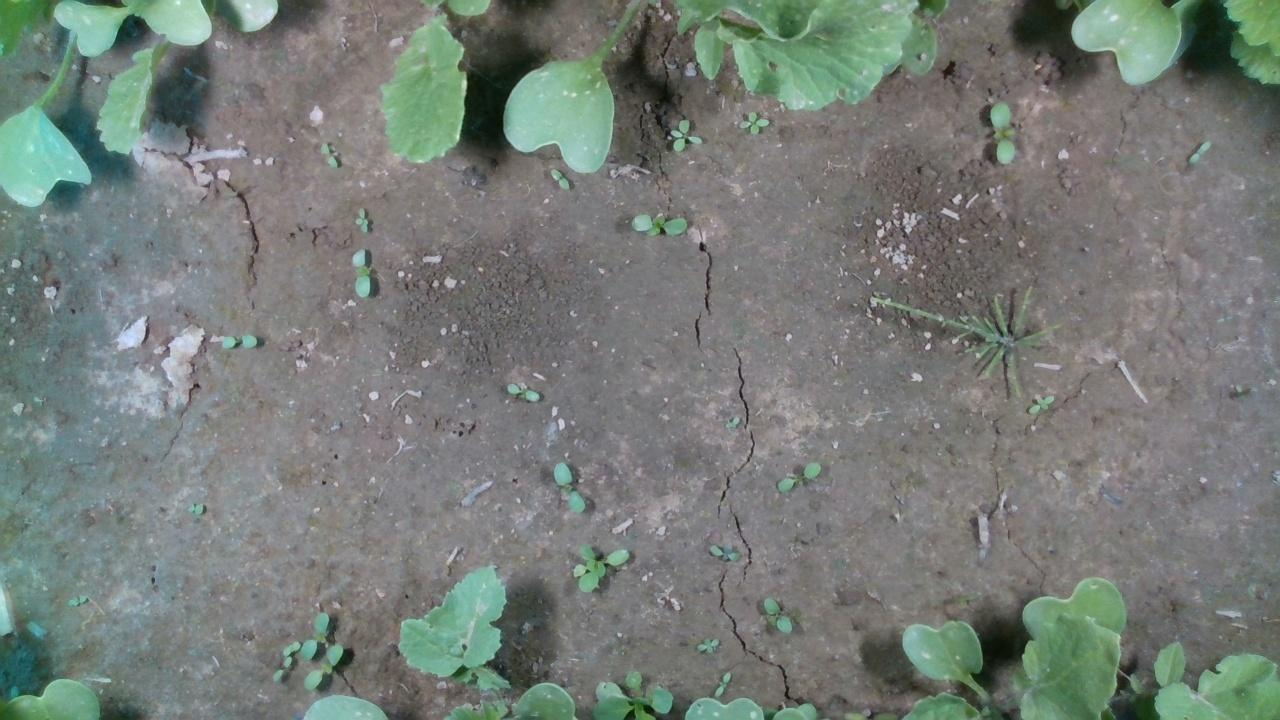weed: (217, 334, 257, 349)
